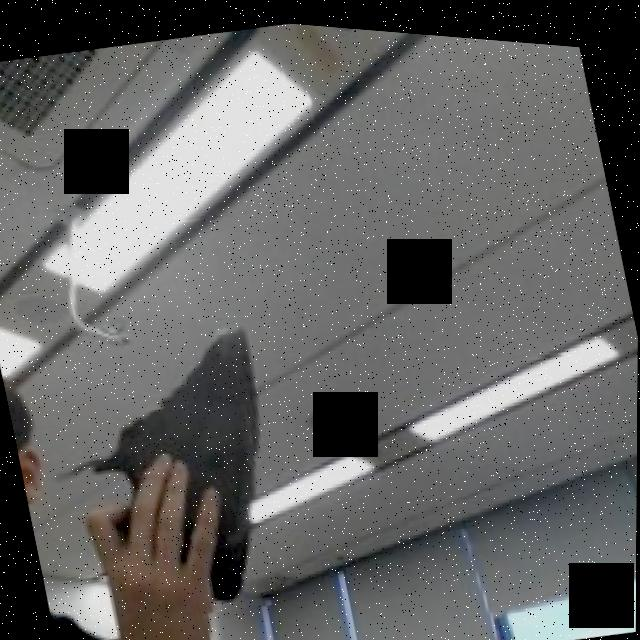shoe: (72, 271, 325, 632)
